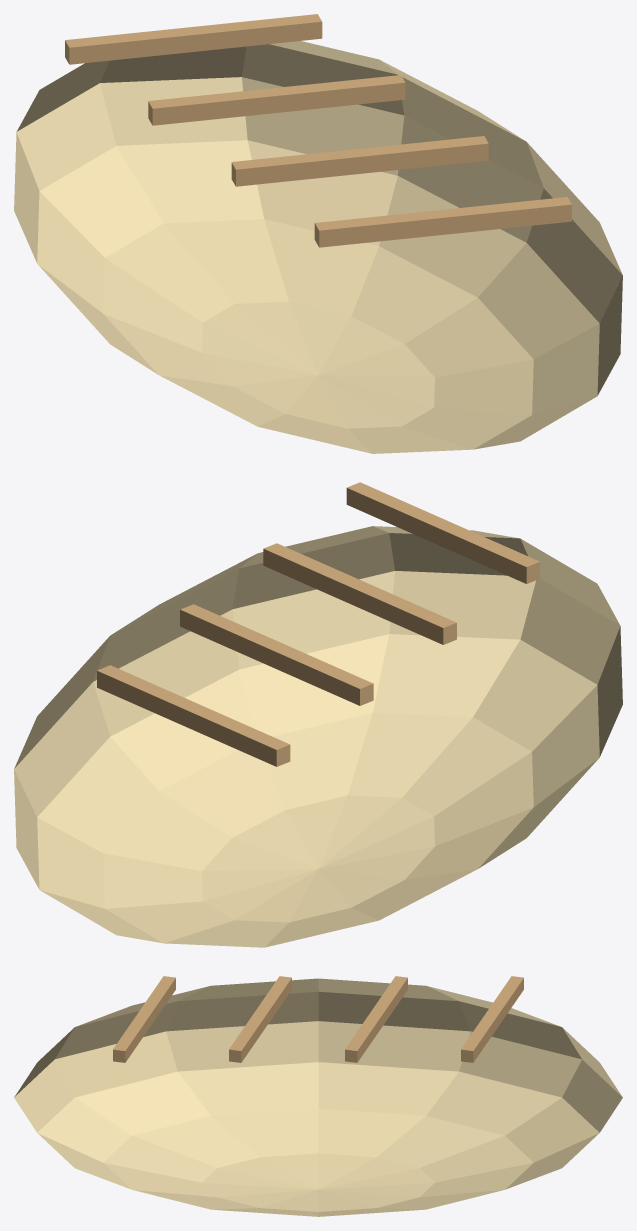
Rendered from harvest-hearth-scored-hearth-loaf__71.glb.
3 views of the same model, one above another, from view 1: azimuth 30°, elevation 25°; view 2: azimuth 150°, elevation 25°; view 3: azimuth 270°, elevation 25° (orthographic). The views are drawn at different scales.
Visible parts, largest first — view 1: harvest-hearth-bread-loaf; view 2: harvest-hearth-bread-loaf; view 3: harvest-hearth-bread-loaf.
Part boxes in pixels (x1,y1,x2,y2): harvest-hearth-bread-loaf: [14, 14, 622, 453]; harvest-hearth-bread-loaf: [14, 482, 622, 947]; harvest-hearth-bread-loaf: [14, 976, 622, 1216].
Size of the model in its own units: 0.5 by 0.28 by 0.84.
